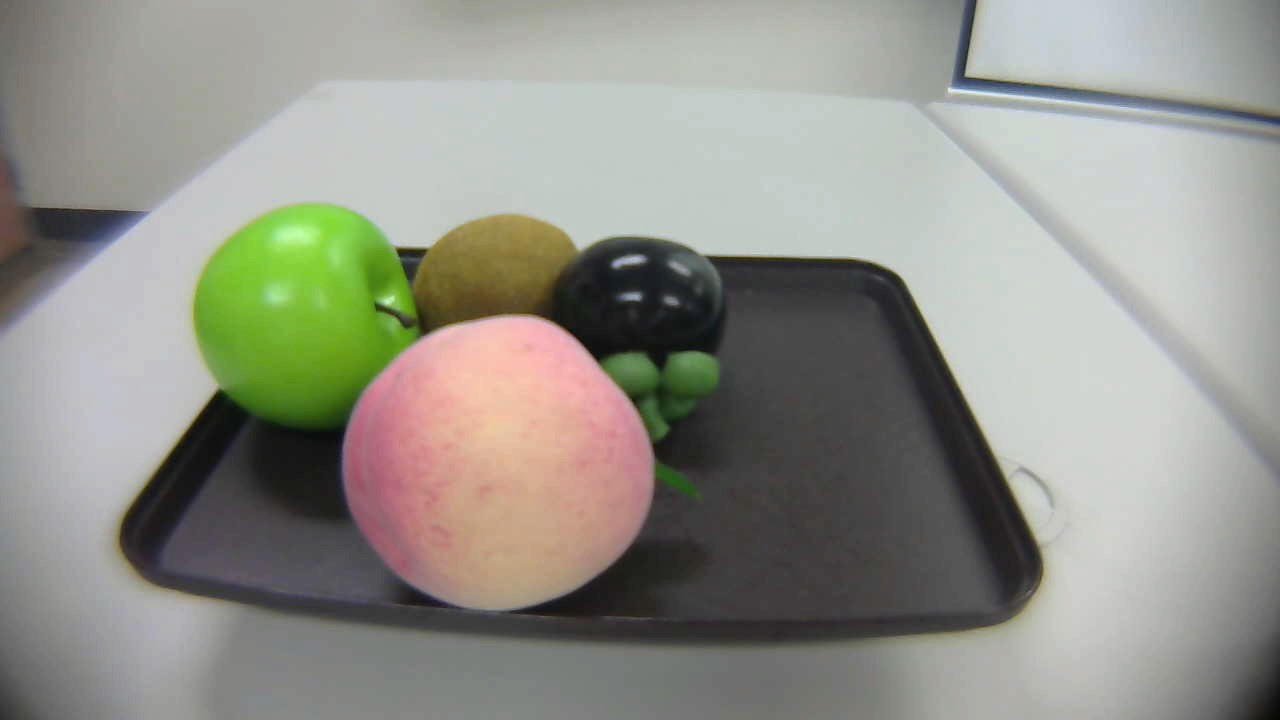green apple: (180, 196, 437, 448)
kiwi fruit: (399, 214, 583, 340)
mangosteen: (543, 237, 738, 460)
peach: (332, 306, 700, 616)
